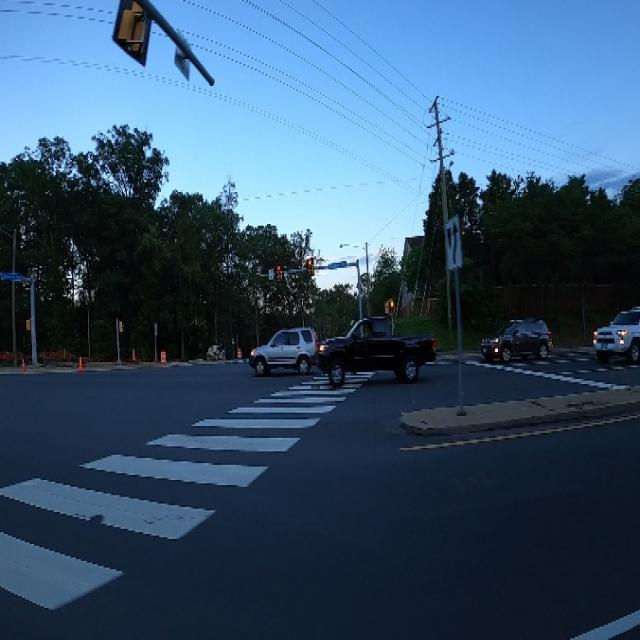cars: (316, 308, 436, 391), (587, 286, 640, 374), (244, 320, 320, 374), (479, 310, 554, 363)
